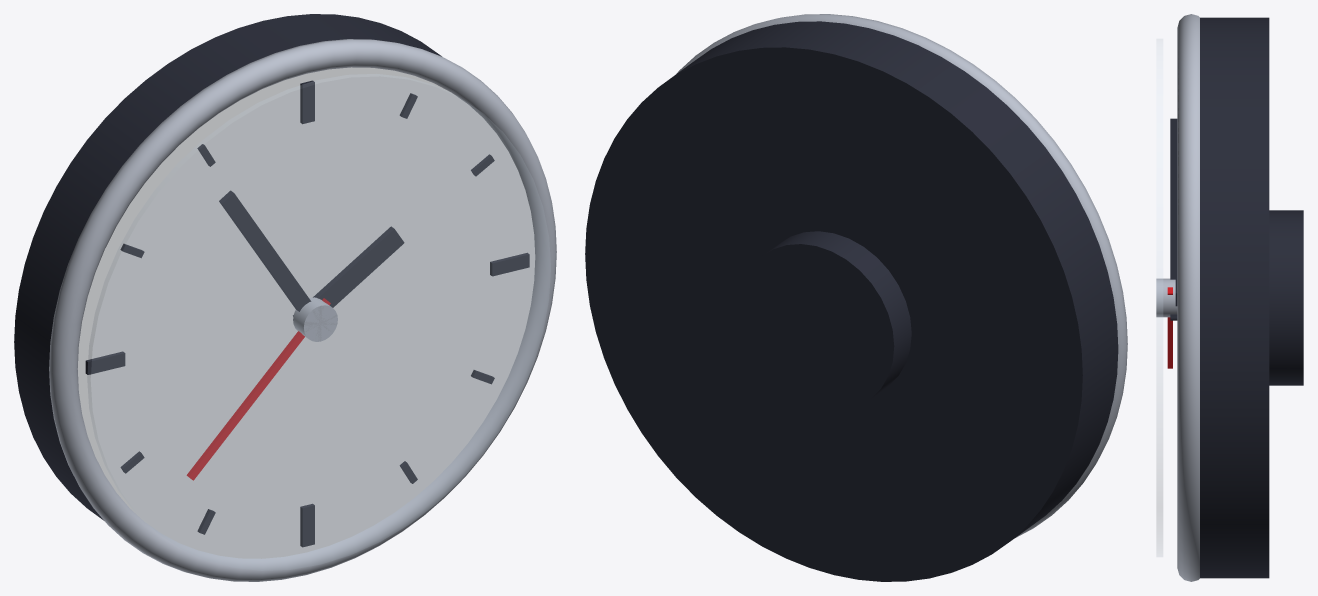
The model's file is sch-007.glb.
The picture shows the model from 3 angles, left to right: view 1: azimuth 30°, elevation 25°; view 2: azimuth 150°, elevation 25°; view 3: azimuth 270°, elevation 25°; orthographic projection. The views are drawn at different scales.
Visible parts, largest first — view 1: glass_clear, white, steel, plastic_dark, accent_red; view 2: plastic_dark, steel; view 3: plastic_dark, steel, glass_clear, accent_red.
Part boxes in pixels (<box>): glass_clear: <box>87,74,550,570</box>; white: <box>77,67,535,558</box>; steel: <box>49,39,556,581</box>; plastic_dark: <box>14,14,529,547</box>; accent_red: <box>186,298,330,480</box>; plastic_dark: <box>585,21,1118,581</box>; steel: <box>676,14,1127,537</box>; plastic_dark: <box>1170,17,1303,578</box>; steel: <box>1156,14,1199,581</box>; glass_clear: <box>1157,39,1162,556</box>; accent_red: <box>1167,287,1172,368</box>.
Bounding box in the file's own units: 0.324 × 0.324 × 0.084.
